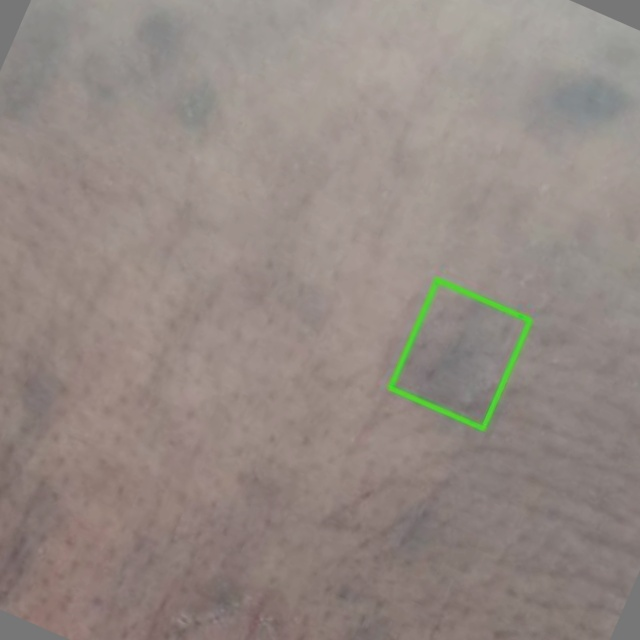Tinea Corporis: (390, 279, 530, 428)
